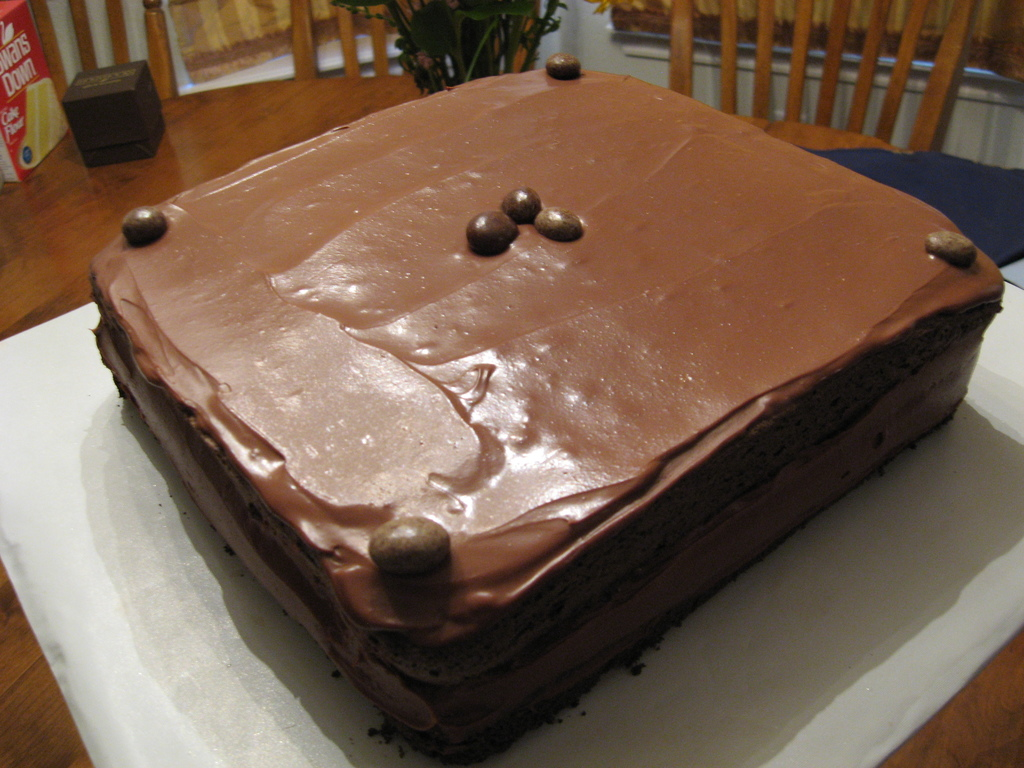cake: (91, 54, 1002, 767)
